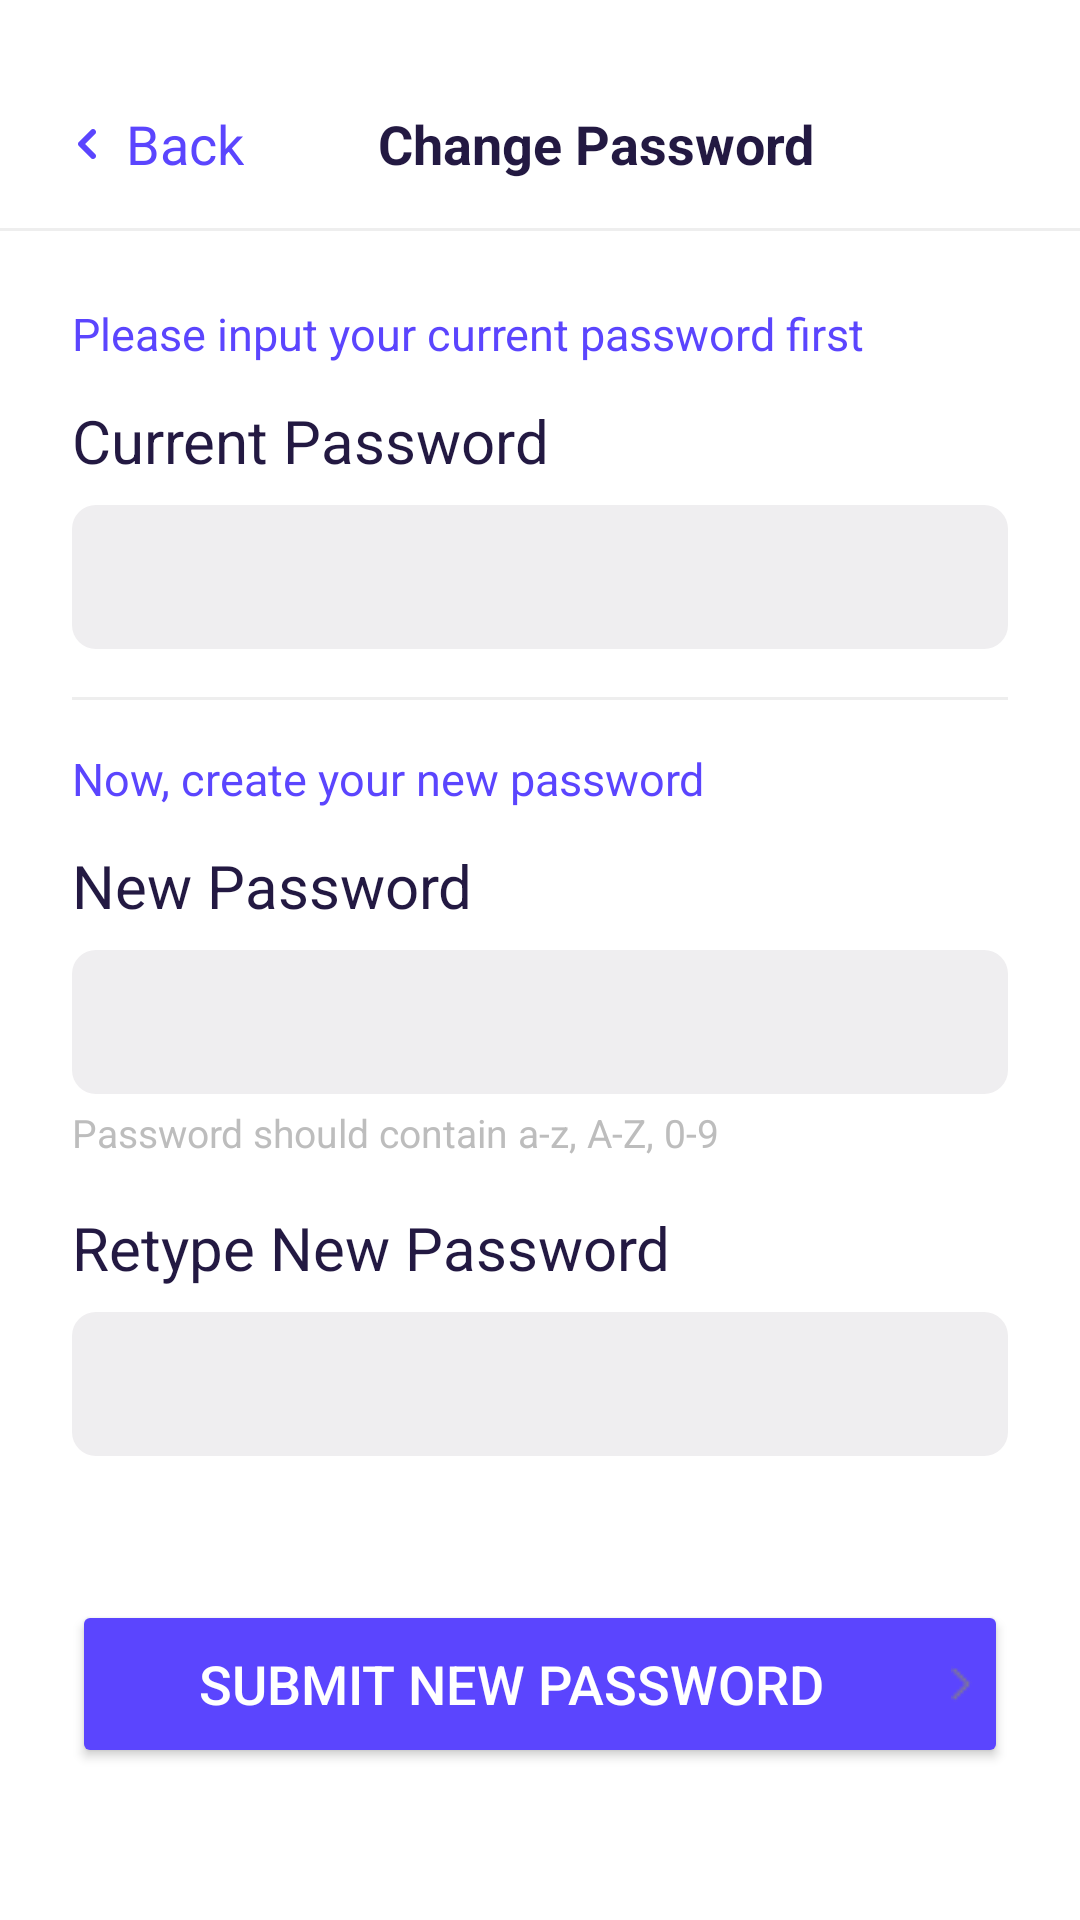

Where icons sit on this 1080px x 1920px app screen, as box=[x1, y1, x2, y2]:
arrow: box=[78, 129, 96, 159]
